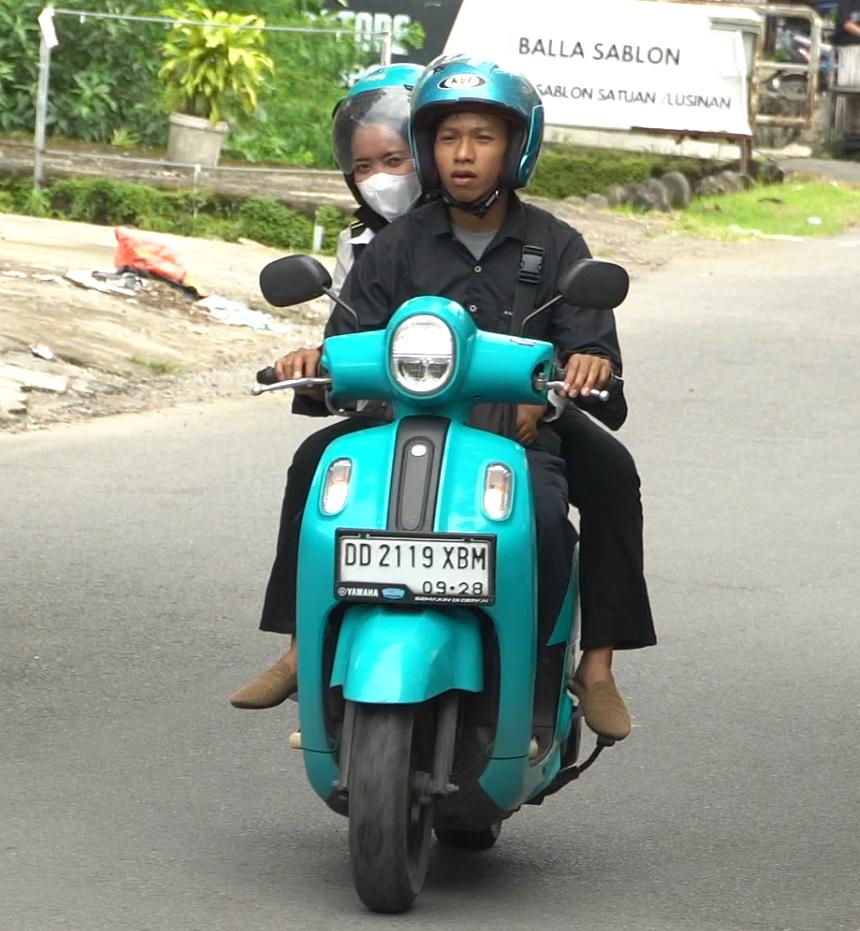number-plate: (332, 531, 501, 606)
